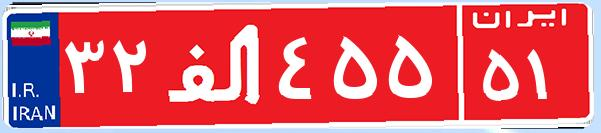1: (525, 38, 570, 115)
2: (110, 28, 158, 105)
3: (57, 26, 110, 107)
4: (273, 28, 330, 110)
5: (385, 28, 445, 110), (330, 28, 385, 110), (475, 38, 525, 113)
الف: (158, 15, 273, 115)
